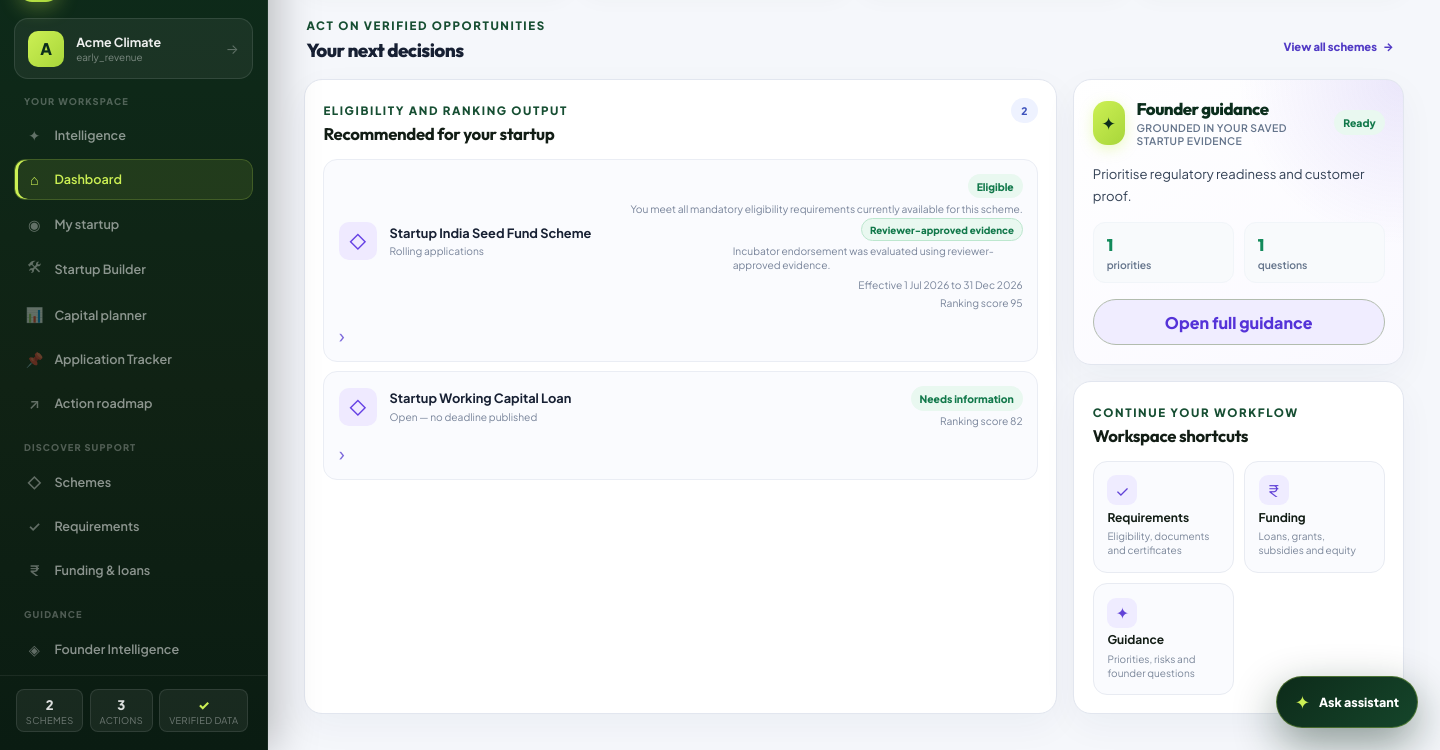
Test case: founder tools application integration › opens requirements from dashboard tools
(page scrolled)
Check: the element "Workspace shortcuts" is shown, box [1073,381,1404,714]
What coordinates should you click on to do the following:
click the button "✓ Requirements Eligibility, documents and certificates"
I would click on:
 (1163, 517)
Its box is [1093,461,1234,573].
(page scrolled)
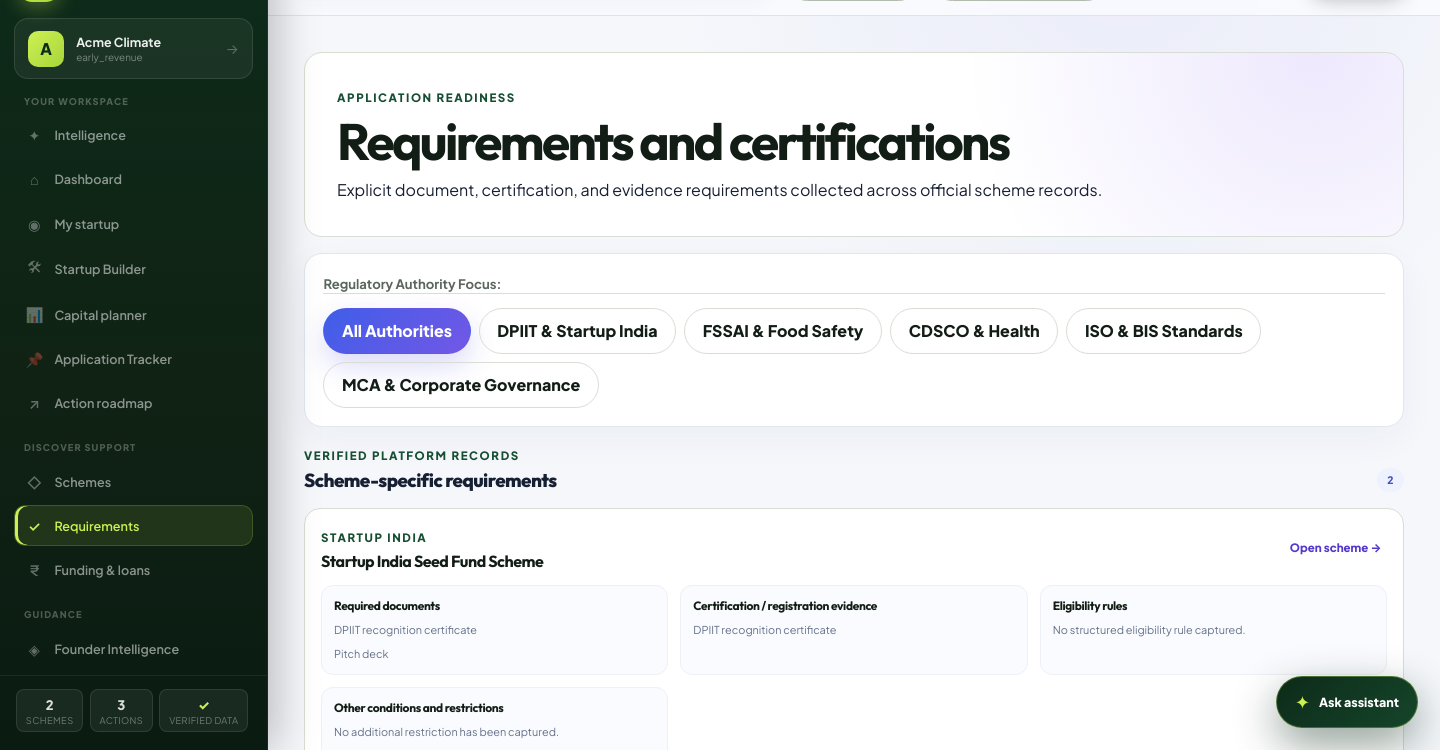
Check: the heading "Requirements and certifications" is shown, box [337,115,1102,167]
